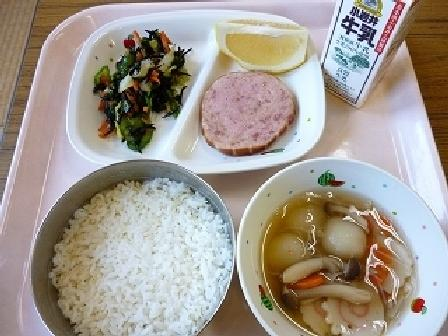Citrus: (210, 12, 317, 80)
Milk: (311, 0, 423, 98)
Rice: (50, 166, 233, 330)
Salad: (90, 35, 200, 142)
Soups: (250, 174, 442, 335)
meat product: (193, 68, 302, 166)
